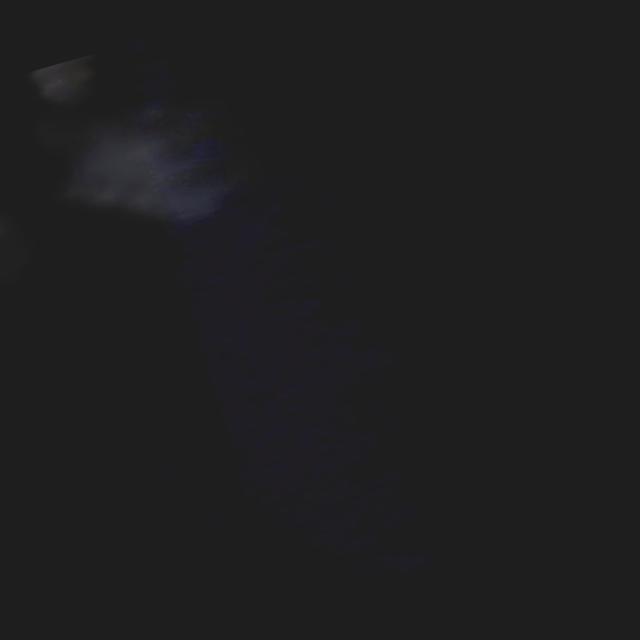smoke: (45, 96, 234, 254), (29, 51, 106, 103)
